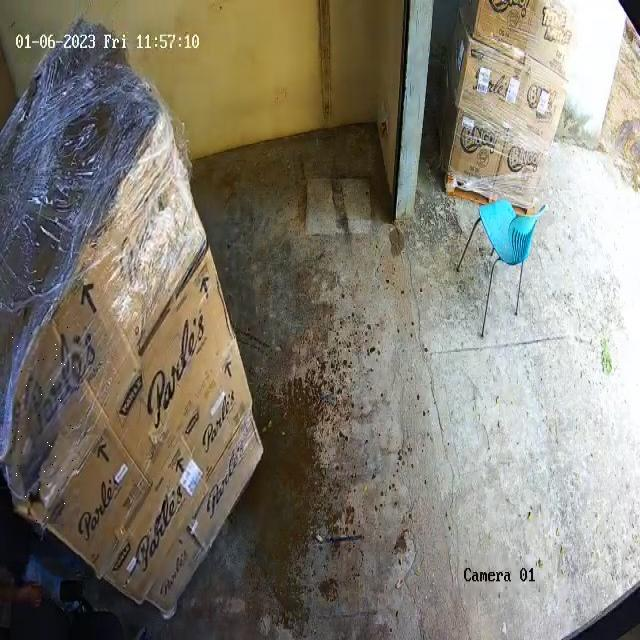squeeze: (13, 327, 75, 523)
